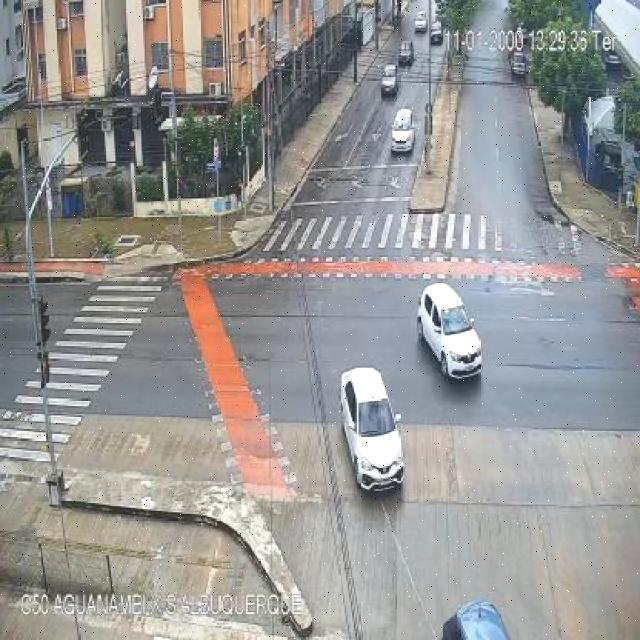Car: (338, 364, 408, 496), (417, 282, 482, 383), (390, 106, 414, 154), (380, 64, 398, 96), (398, 37, 414, 66), (413, 10, 428, 34), (430, 21, 442, 45)
